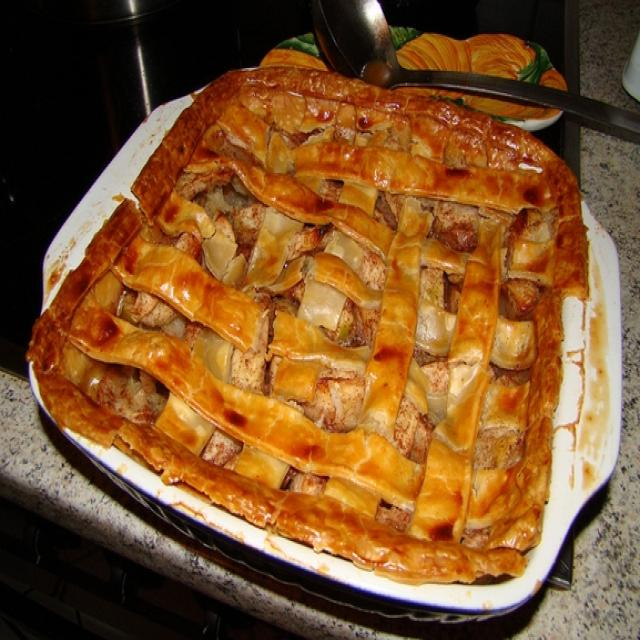炸货点心: (23, 31, 606, 602)
蛋糕甜品: (23, 31, 606, 602)
